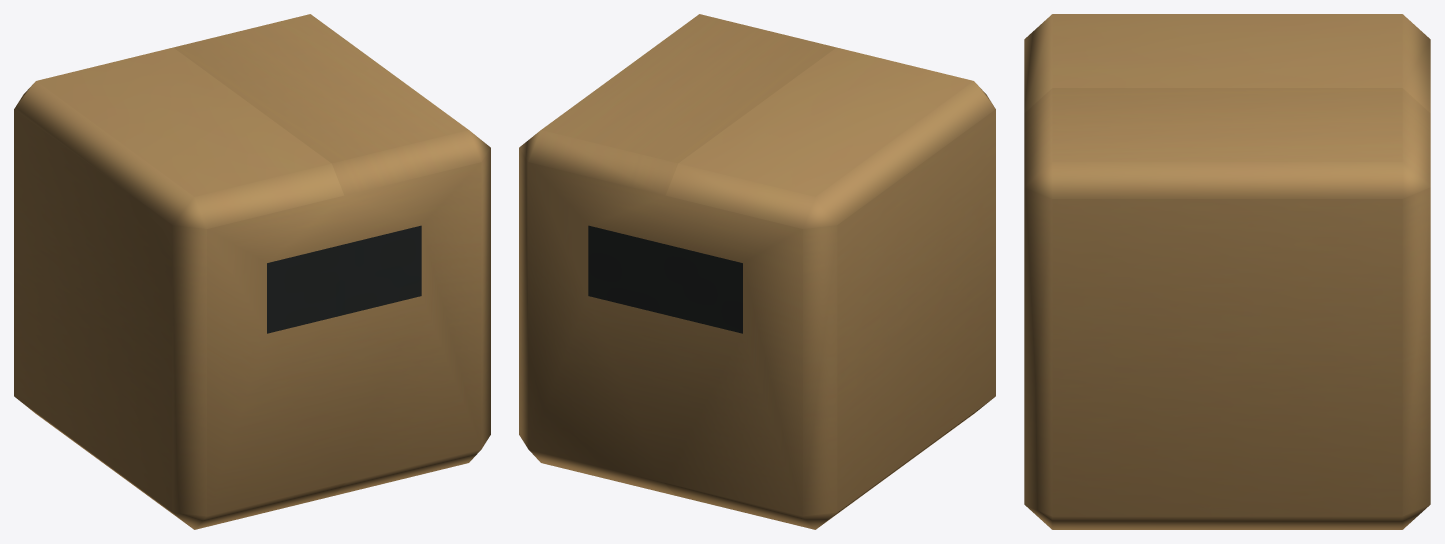
File: box_cardboard_square_closed_handle.fbx
The picture shows the model from 3 angles, left to right: view 1: azimuth 30°, elevation 25°; view 2: azimuth 150°, elevation 25°; view 3: azimuth 270°, elevation 25°; orthographic projection. The views are drawn at different scales.
Parts seen in each view (by area): view 1: box_cardboard_square_closed_handle; view 2: box_cardboard_square_closed_handle; view 3: box_cardboard_square_closed_handle.
Boxes of the visible parts, left/top/right/bottom form: box_cardboard_square_closed_handle: left=14, top=14, right=490, bottom=529; box_cardboard_square_closed_handle: left=519, top=14, right=995, bottom=529; box_cardboard_square_closed_handle: left=1024, top=14, right=1430, bottom=529.
Size of the model in its own units: 53.69 by 53.69 by 53.69.
